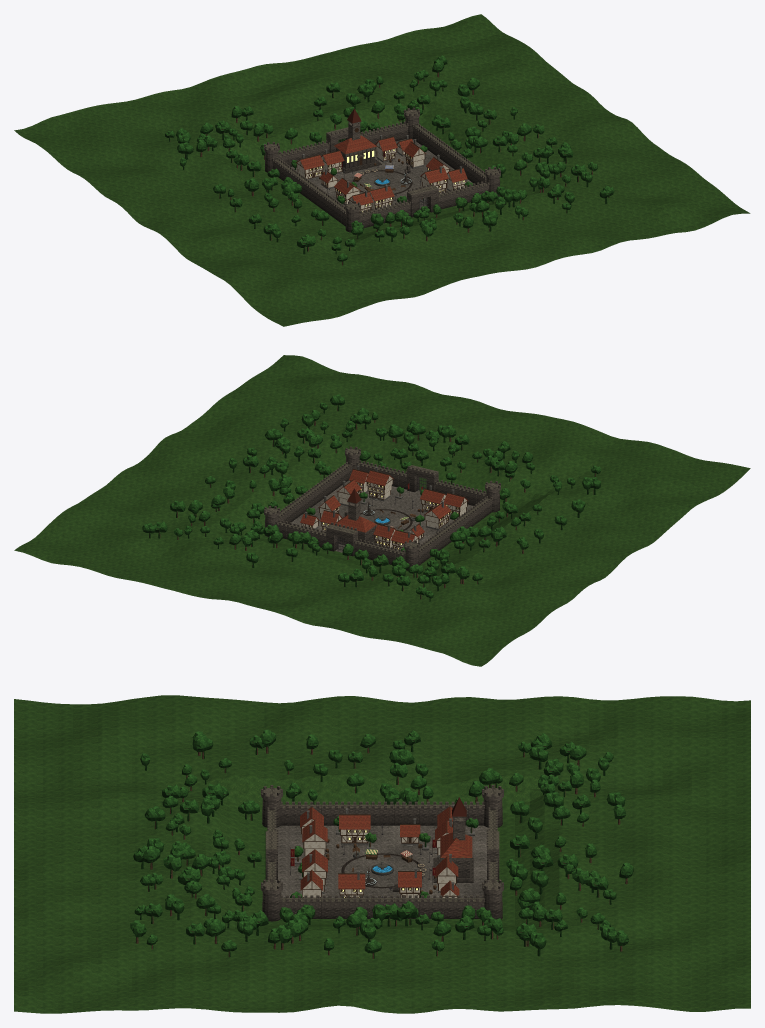
The model's file is town.glb.
3 renders of one model, top to bottom at view 1: azimuth 30°, elevation 25°; view 2: azimuth 150°, elevation 25°; view 3: azimuth 270°, elevation 25°, orthographic. The views are drawn at different scales.
Visible parts, largest first — view 1: ground_grass, ground_cobble, town_hall.001, gate.002, house.001; view 2: ground_grass, ground_cobble, town_hall.001, gate.001, house.006, gate.002, house.009; view 3: ground_grass, ground_cobble, town_hall.001, house.009, tower.004, house.004, tower.003, tower.001, tower.002, house.011, house.010, house.006 (+4 smaller).
Part boxes in pixels (x1,y1,x2,y2): ground_grass: (14,14,750,326); ground_cobble: (292,139,473,210); town_hall.001: (334,108,382,173); gate.002: (407,183,438,217); house.001: (295,154,324,180); ground_grass: (14,355,750,666); ground_cobble: (291,480,472,552); town_hall.001: (334,488,376,544); gate.001: (326,522,357,556); house.006: (365,466,393,501); gate.002: (407,465,438,492); house.009: (424,501,450,530); ground_grass: (14,695,750,1013); ground_cobble: (276,825,488,897); town_hall.001: (433,797,473,882); house.009: (339,808,370,846); tower.004: (261,878,282,921); house.004: (302,819,327,856); tower.003: (482,878,503,919); tower.001: (482,785,503,827); tower.002: (261,785,282,827); house.011: (338,870,365,897); house.010: (398,868,422,897); house.006: (302,849,327,893).
Size of the model in its own units: 240 by 26.63 by 240.
Materials: 19 (16 with a texture image).
